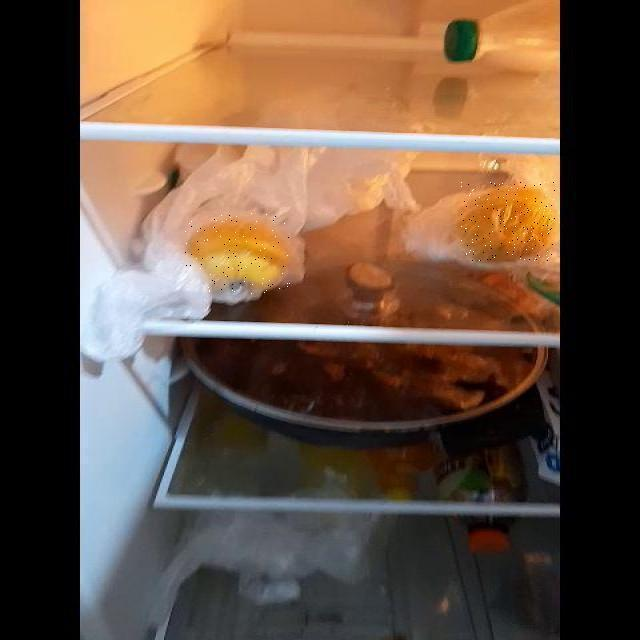Limón: (185, 213, 290, 295), (461, 182, 555, 261)
